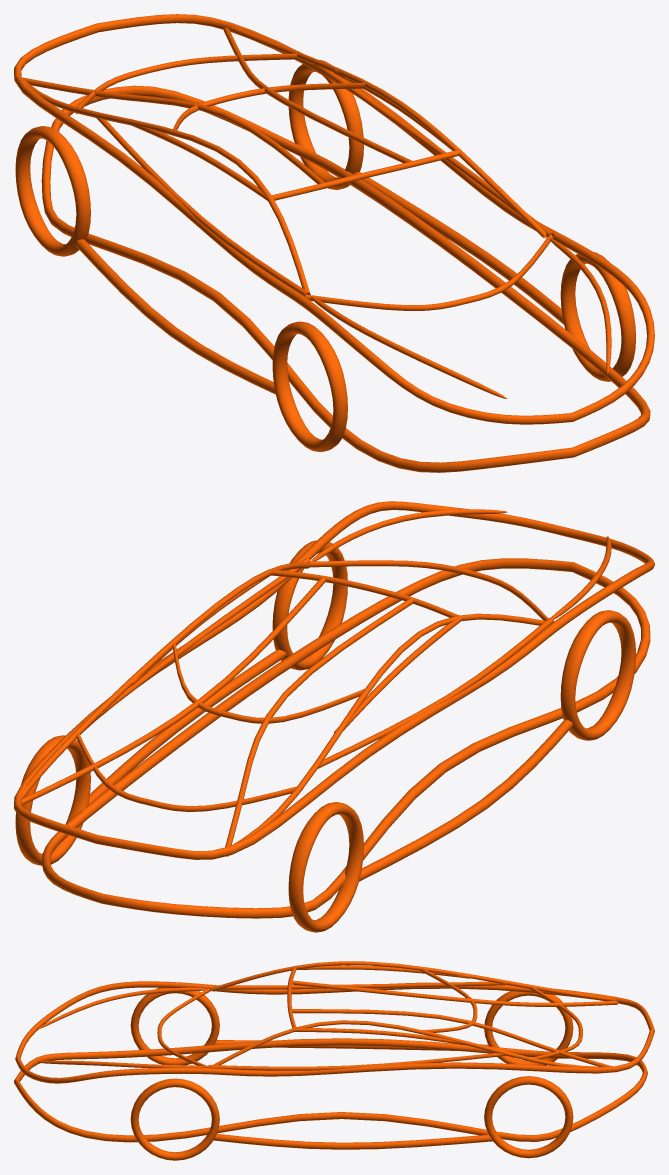
Rendered from sketch.glb.
The picture shows the model from 3 angles, top to bottom: view 1: azimuth 30°, elevation 25°; view 2: azimuth 150°, elevation 25°; view 3: azimuth 270°, elevation 25°; orthographic projection. The views are drawn at different scales.
Parts seen in each view (by area): view 1: Plane; view 2: Plane; view 3: Plane.
Boxes of the visible parts, bbox=[...] form: Plane: bbox=[14, 14, 654, 472]; Plane: bbox=[14, 501, 654, 932]; Plane: bbox=[14, 961, 654, 1160].
Bounding box in the file's own units: 186 × 102 × 483.
